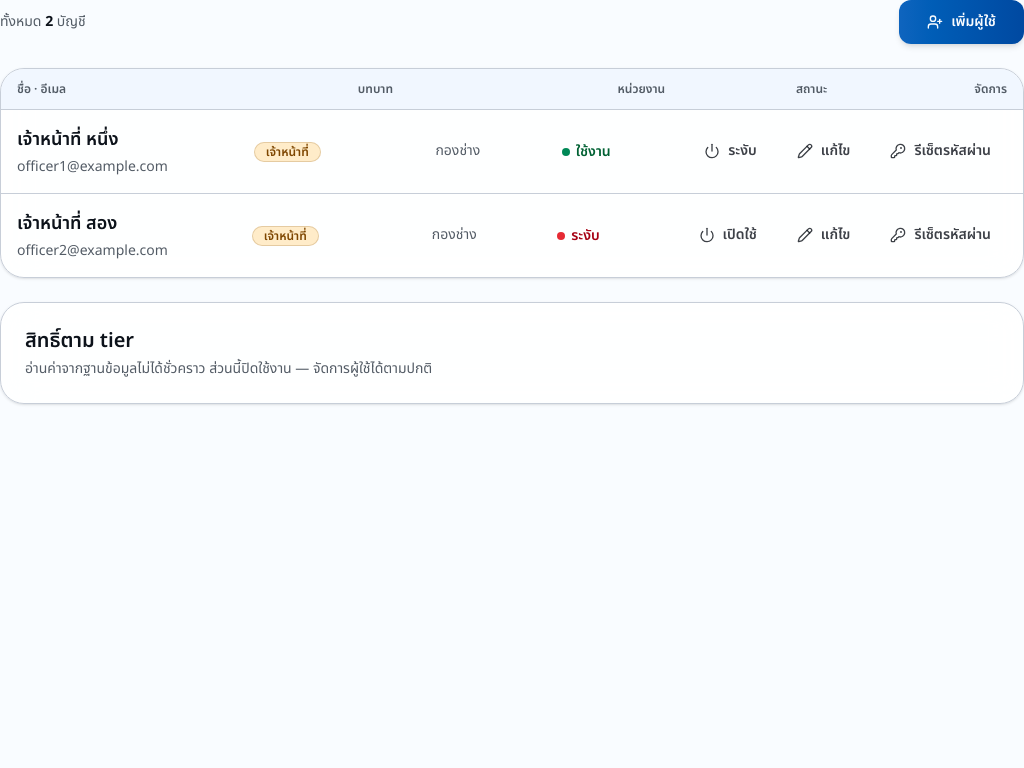
Test case: UsersClient ระงับบัญชี › ระหว่าง pending → ปุ่มยืนยัน disabled + label "กำลังดำเนินการ..."
Click the button with aria-label "ระงับบัญชี": click(731, 151) [688,129,773,173]
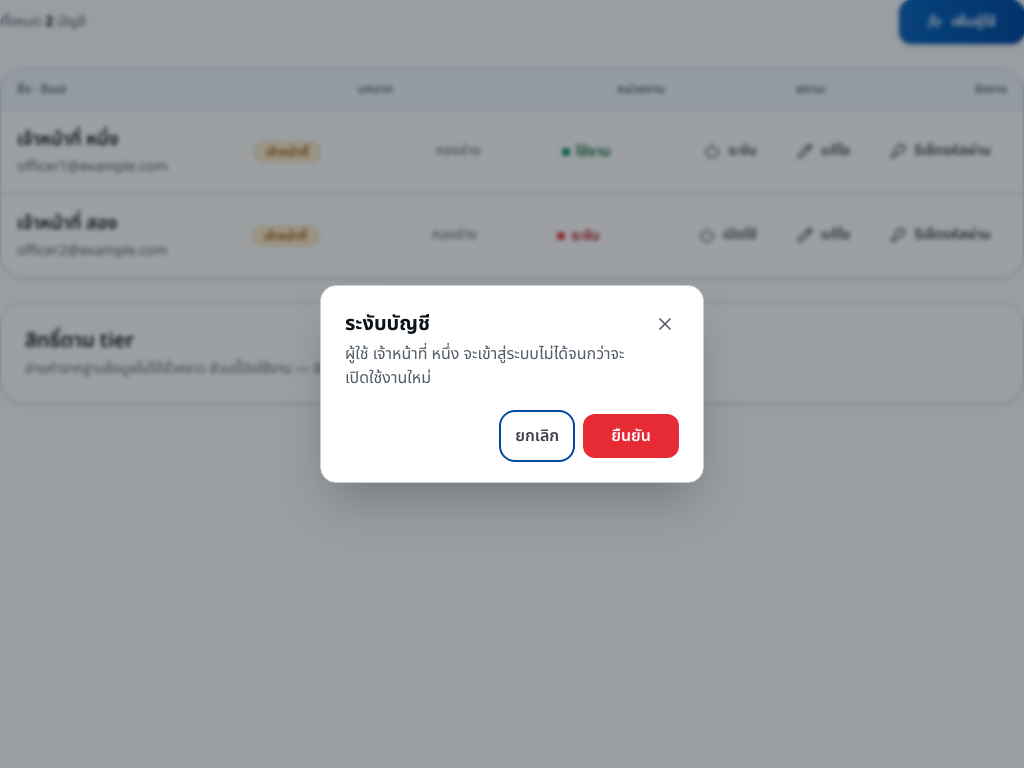
Click the button "ยืนยัน": click(631, 436) [583,414,679,458]
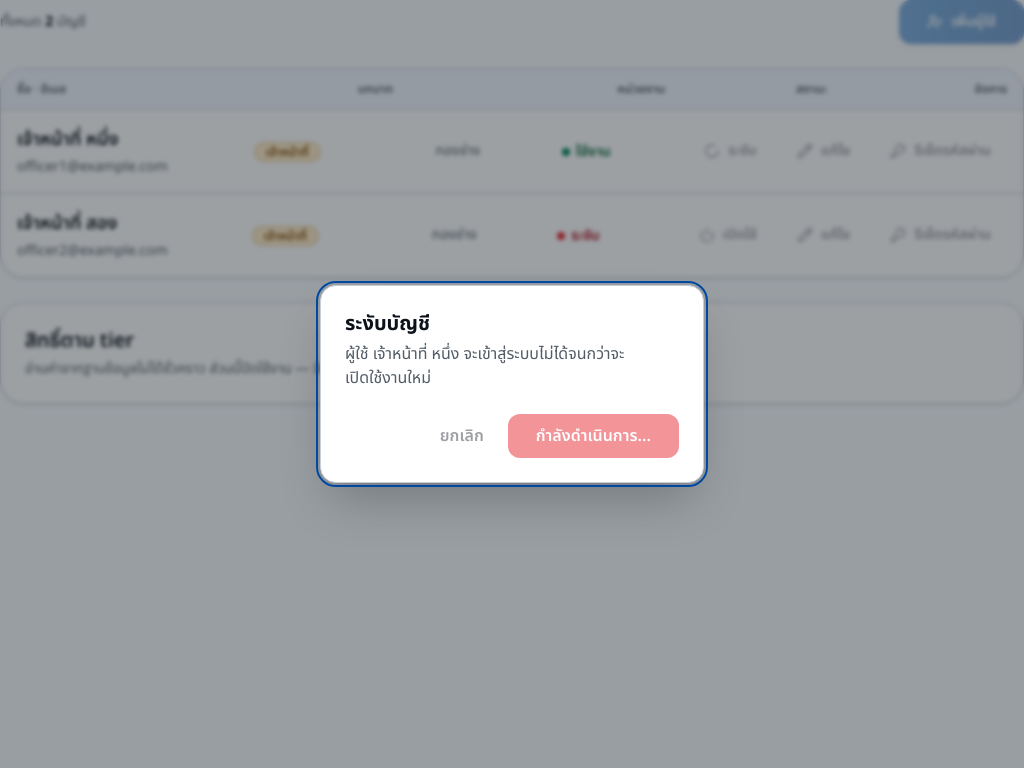
Result: the button "กำลังดำเนินการ..." is disabled at [508,414,679,458]
